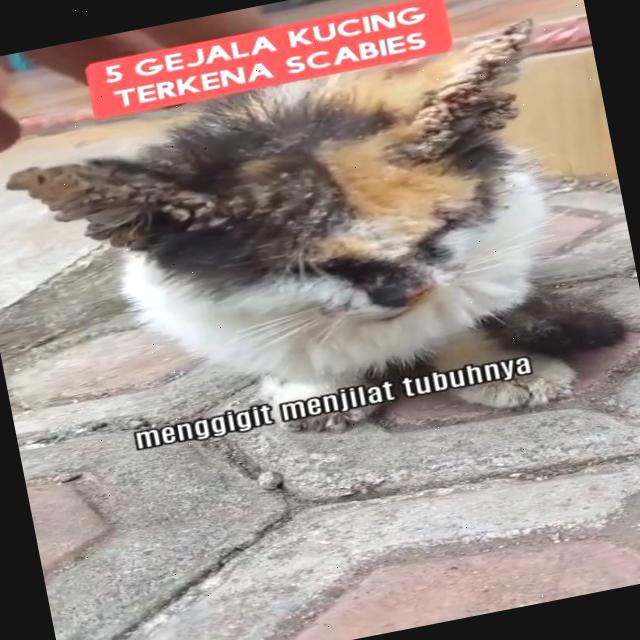cat-scabies: (3, 132, 225, 274), (380, 0, 558, 168)
